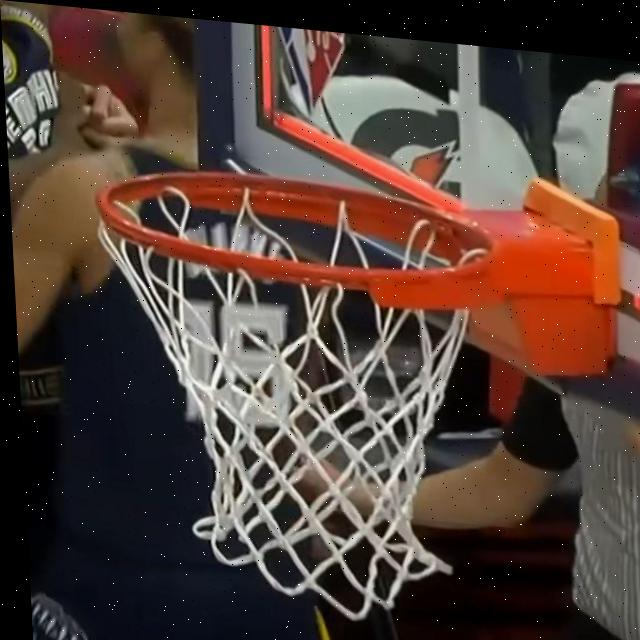hoop: (86, 144, 605, 640)
